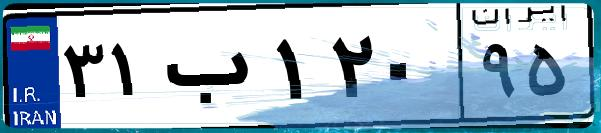0: (385, 28, 445, 110)
1: (270, 28, 330, 110), (110, 28, 158, 98)
2: (330, 28, 385, 110)
3: (57, 26, 110, 100)
5: (525, 38, 570, 115)
9: (475, 38, 525, 113)
ب: (158, 20, 270, 120)
